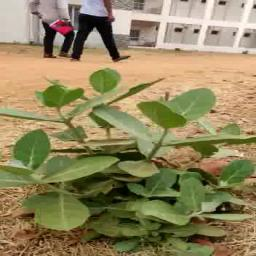CALOTROPIS: (26, 70, 244, 238)
